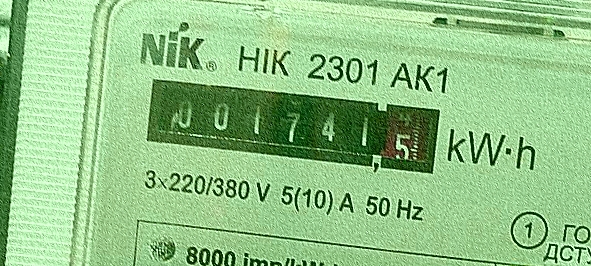0: (209, 98, 232, 134), (173, 96, 196, 131)
1: (245, 100, 266, 138), (354, 113, 373, 150)
4: (316, 108, 341, 145), (395, 109, 413, 129)
5: (390, 129, 413, 162)
7: (280, 108, 301, 145)
screen: (137, 66, 448, 185)
